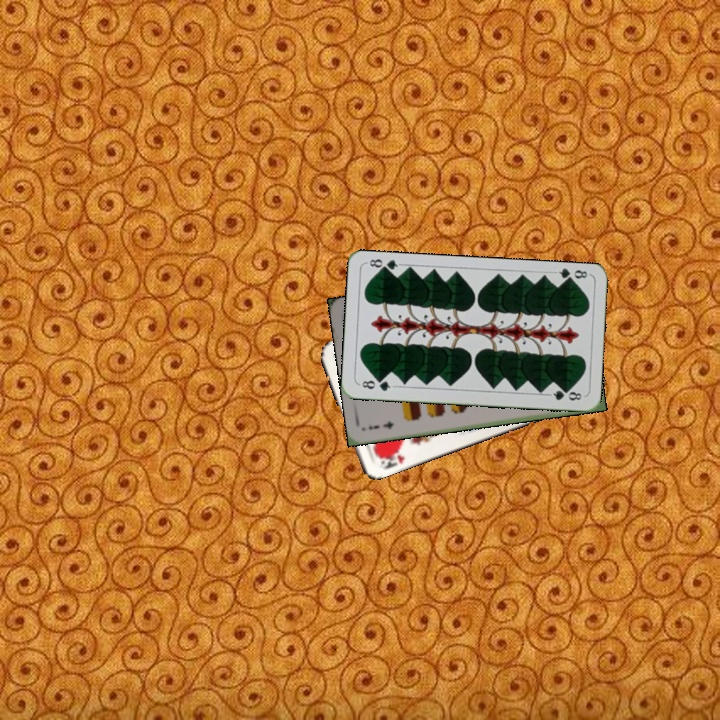E7: (365, 417, 396, 432)
G8: (551, 265, 592, 285), (356, 376, 396, 393)
HK: (375, 446, 407, 472)
